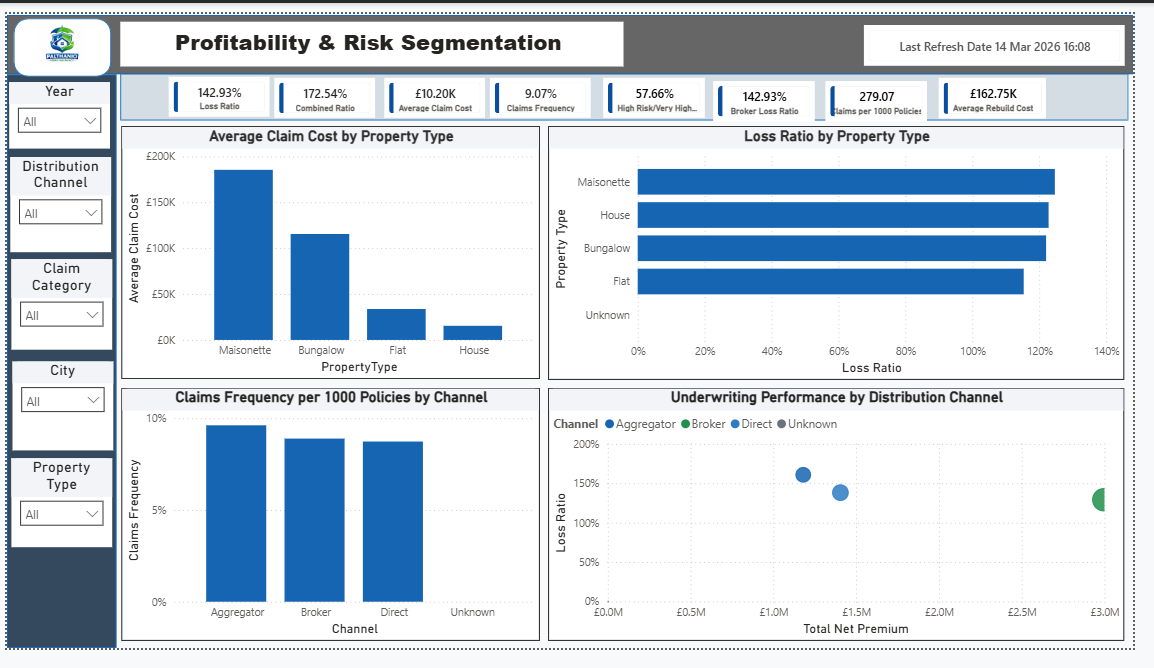

Layout of this report page (visuals, bound fields, positions):
{"tool":"powerbi","page":{"name":"Profitablity & Risk Segmentation","canvas":[1280,720],"ordinal":4},"visuals":[{"type":"group","id":"g1","title":"KPIs ","box":[129.1,67.8,1145.7,54.5],"z":0},{"type":"shape","title":"KPI Background","box":[129.1,67.8,1145.7,53.5],"z":0,"group":"g1"},{"type":"cardVisual","title":"Total Revenue","fields":{"Data":["_Measures.Loss Ratio"]},"box":[183.7,71.5,114.2,45],"z":1000,"group":"g1"},{"type":"cardVisual","title":"Average Claim Cost","fields":{"Data":["_Measures.Average Rebuild Cost"]},"box":[1058.9,72.2,122.2,46.7],"z":1000},{"type":"cardVisual","title":"Total Claims Paid","fields":{"Data":["_Measures.Combined Ratio"]},"box":[303.7,72.6,114.2,45],"z":2000,"group":"g1"},{"type":"scatterChart","title":"Underwriting Performance by Distribution Channel","fields":{"X":["_Measures.Total Net Premium"],"Y":["_Measures.Loss Ratio"],"Size":["_Measures.No of Policies"],"Series":["gold dim_broker.Channel"]},"box":[615.4,425.3,654.8,286.9],"z":2000},{"type":"cardVisual","title":"Claims Frequency","fields":{"Data":["_Measures.Broker Loss Ratio"]},"box":[803.3,75.9,115,45],"z":3000,"group":"g1"},{"type":"clusteredBarChart","title":"Loss Ratio by Property Type","fields":{"Category":["gold dim_address.PropertyType"],"Y":["_Measures.Loss Ratio"]},"box":[615.4,127.1,654.8,288],"z":3000},{"type":"cardVisual","title":"Loss Ratio","fields":{"Data":["_Measures.High Risk/Very High Risk Property Share"]},"box":[677.5,72.6,115,45],"z":4000,"group":"g1"},{"type":"clusteredColumnChart","title":"Claims Frequency per 1000 Policies by Channel","fields":{"Category":["gold dim_broker.Channel"],"Y":["_Measures.Claims Frequency"]},"box":[130.5,425.3,475.9,286.9],"z":4000},{"type":"cardVisual","title":"No. Of Active Policies","fields":{"Data":["_Measures.Average Claim Cost"]},"box":[428.7,72.6,114.2,45],"z":5000,"group":"g1"},{"type":"clusteredColumnChart","title":"Average Claim Cost by Property Type","fields":{"Category":["gold dim_address.PropertyType"],"Y":["_Measures.Average Claim Cost"]},"box":[130.5,127.1,475.9,286.9],"z":5000},{"type":"shape","title":"Deep Blue Header ","box":[0,68.6,124.3,651.4],"z":6000},{"type":"cardVisual","title":"No. Of Claims","fields":{"Data":["_Measures.Claims Frequency"]},"box":[549.1,72.6,114.2,45],"z":6000,"group":"g1"},{"type":"shape","title":"Deep Blue Header ","box":[0,1.4,1280,67.1],"z":7000},{"type":"cardVisual","title":"Average Claim Cost","fields":{"Data":["_Measures.Claims per 1000 Policies"]},"box":[930,76.8,115.6,45.6],"z":7000,"group":"g1"},{"type":"textbox","title":"Executive Summary","box":[129.2,8.5,571.5,50.8],"z":8000},{"type":"shape","title":"Logo Background","box":[6.9,5.4,110.8,66.2],"z":9000},{"type":"image","title":"Logo","box":[19.4,8.2,85.3,54.1],"z":10000},{"type":"slicer","title":"Year","fields":{"Values":["gold dim_date.YearNumber"]},"box":[2.7,77.3,114.5,75.5],"z":11000},{"type":"slicer","title":"Claim Category","fields":{"Values":["gold dim_claim_type.ClaimType"]},"box":[5.5,279.1,114.5,102.7],"z":12000},{"type":"slicer","title":"City","fields":{"Values":["gold dim_address.City"]},"box":[6.7,394.4,114.4,101.1],"z":13000},{"type":"slicer","title":"Distribution Channel","fields":{"Values":["gold dim_broker.Channel"]},"box":[3.6,162.7,114.5,108.2],"z":14000},{"type":"cardVisual","title":"Average Claim Cost","fields":{"Data":["_Measures.Last Refresh Date"]},"box":[973.3,12.2,296.7,46.7],"z":15000},{"type":"slicer","title":"Property Type","fields":{"Values":["gold dim_address.PropertyType"]},"box":[5.6,504.4,114.4,101.1],"z":16000}]}

Visuals, with their boxes in screenshot pixels (x1, y1, x2, y2), scaled from the page's 1280x720 canvas onto the 1154x668 screenshot:
"KPIs " group: box(116, 63, 1149, 113)
"KPI Background" shape: box(116, 63, 1149, 113)
"Total Revenue" cardVisual: box(166, 66, 269, 108)
"Average Claim Cost" cardVisual: box(955, 67, 1065, 110)
"Total Claims Paid" cardVisual: box(274, 67, 377, 109)
"Underwriting Performance by Distribution Channel" scatterChart: box(555, 395, 1145, 661)
"Claims Frequency" cardVisual: box(724, 70, 828, 112)
"Loss Ratio by Property Type" clusteredBarChart: box(555, 118, 1145, 385)
"Loss Ratio" cardVisual: box(611, 67, 714, 109)
"Claims Frequency per 1000 Policies by Channel" clusteredColumnChart: box(118, 395, 547, 661)
"No. Of Active Policies" cardVisual: box(386, 67, 489, 109)
"Average Claim Cost by Property Type" clusteredColumnChart: box(118, 118, 547, 384)
"Deep Blue Header " shape: box(0, 64, 112, 667)
"No. Of Claims" cardVisual: box(495, 67, 598, 109)
"Deep Blue Header " shape: box(0, 1, 1153, 64)
"Average Claim Cost" cardVisual: box(838, 71, 943, 114)
"Executive Summary" textbox: box(116, 8, 632, 55)
"Logo Background" shape: box(6, 5, 106, 66)
"Logo" image: box(17, 8, 94, 58)
"Year" slicer: box(2, 72, 106, 142)
"Claim Category" slicer: box(5, 259, 108, 354)
"City" slicer: box(6, 366, 109, 460)
"Distribution Channel" slicer: box(3, 151, 106, 251)
"Average Claim Cost" cardVisual: box(877, 11, 1145, 55)
"Property Type" slicer: box(5, 468, 108, 562)
